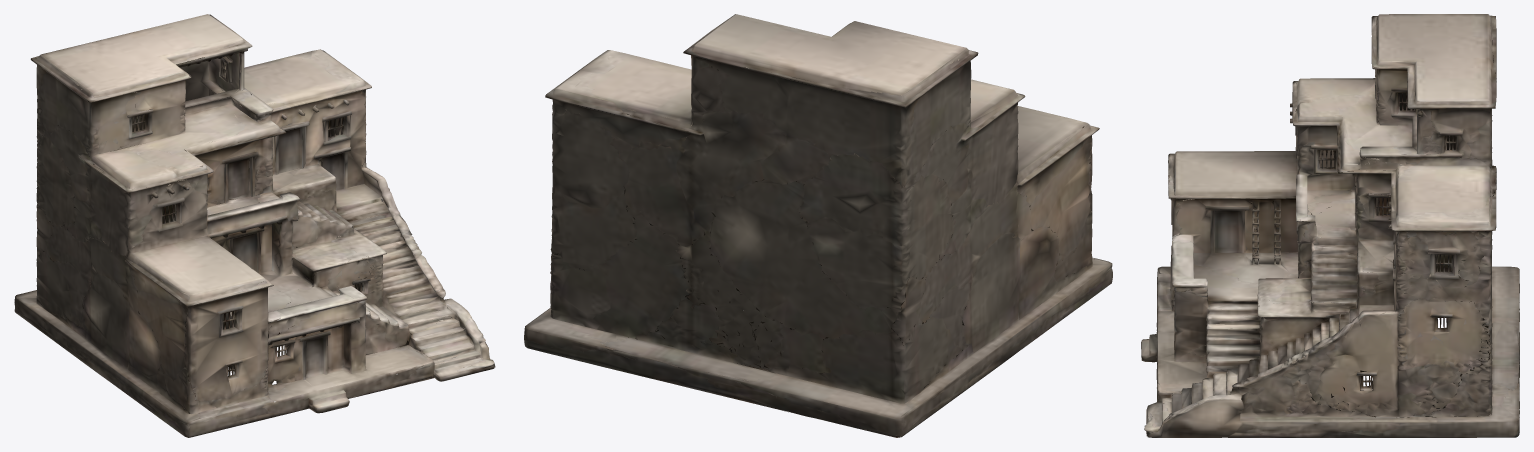
Rendered from house_c.glb.
The picture shows the model from 3 angles, left to right: view 1: azimuth 30°, elevation 25°; view 2: azimuth 150°, elevation 25°; view 3: azimuth 270°, elevation 25°; orthographic projection. The views are drawn at different scales.
Parts seen in each view (by area): view 1: Object_11, Object_6, Object_15, Object_10, Object_9, Object_8, Object_12, Object_7, Object_5, Object_16, Object_13, Object_14 (+2 smaller); view 2: Object_10, Object_11, Object_8, Object_4, Object_9, Object_16, Object_7, Object_14, Object_12, Object_13, Object_15, Object_6; view 3: Object_5, Object_11, Object_16, Object_6, Object_10, Object_8, Object_7, Object_14, Object_13, Object_9, Object_15, Object_12 (+1 smaller).
Boxes of the visible parts, x1,y1,x2,y2 form: Object_11: (14, 14, 495, 394); Object_6: (126, 104, 365, 401); Object_15: (42, 52, 443, 346); Object_10: (14, 49, 419, 426); Object_9: (18, 54, 485, 437); Object_8: (137, 91, 399, 324); Object_12: (45, 51, 474, 366); Object_7: (17, 85, 482, 423); Object_5: (222, 166, 427, 402); Object_16: (333, 239, 488, 347); Object_13: (39, 89, 375, 397); Object_14: (119, 58, 465, 334); Object_10: (545, 50, 1112, 436); Object_11: (609, 14, 1099, 437); Object_8: (600, 110, 829, 381); Object_4: (524, 153, 955, 412); Object_9: (696, 50, 1112, 414); Object_16: (707, 178, 906, 338); Object_7: (618, 107, 1112, 416); Object_14: (524, 23, 850, 357); Object_12: (613, 177, 1031, 436); Object_13: (550, 59, 1059, 389); Object_15: (763, 77, 1025, 259); Object_6: (551, 106, 1092, 232); Object_5: (1156, 228, 1490, 418); Object_11: (1144, 14, 1519, 436); Object_16: (1148, 314, 1456, 437); Object_6: (1168, 122, 1490, 418); Object_10: (1157, 109, 1519, 367); Object_8: (1213, 95, 1519, 407); Object_7: (1148, 178, 1510, 429); Object_14: (1211, 66, 1519, 437); Object_13: (1167, 93, 1512, 416); Object_9: (1141, 14, 1496, 427); Object_15: (1203, 66, 1431, 395); Object_12: (1163, 105, 1519, 413).
Bounding box in the file's own units: 0.7331 × 0.6049 × 0.7538.
1 material, 1 textured.
